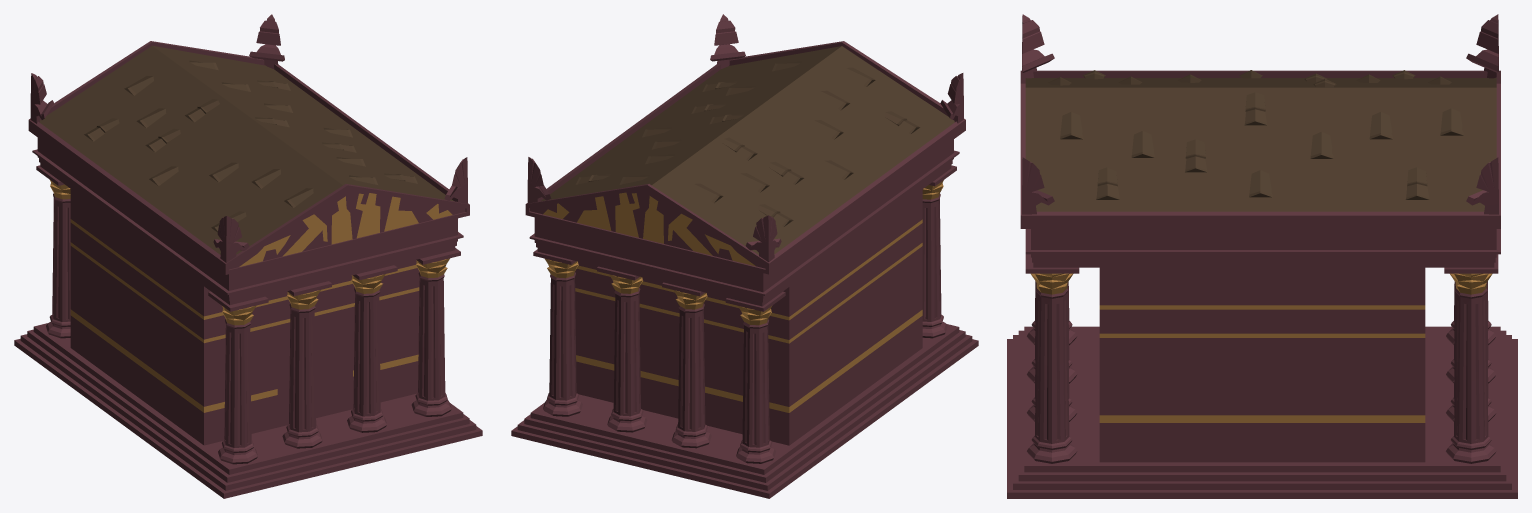
File: SM_Temple_Amfiprostilo_Empire.fbx
The picture shows the model from 3 angles, left to right: view 1: azimuth 30°, elevation 25°; view 2: azimuth 150°, elevation 25°; view 3: azimuth 270°, elevation 25°; orthographic projection. The views are drawn at different scales.
Visible parts, largest first — view 1: SM_Ancient_Temple_Amfiprostilo_Empire; view 2: SM_Ancient_Temple_Amfiprostilo_Empire; view 3: SM_Ancient_Temple_Amfiprostilo_Empire.
Boxes of the visible parts, x1,y1,x2,y2 form: SM_Ancient_Temple_Amfiprostilo_Empire: (14, 14, 482, 498); SM_Ancient_Temple_Amfiprostilo_Empire: (511, 14, 978, 498); SM_Ancient_Temple_Amfiprostilo_Empire: (1007, 14, 1517, 498).
Size of the model in its own units: 13.44 by 13.8 by 18.87.
